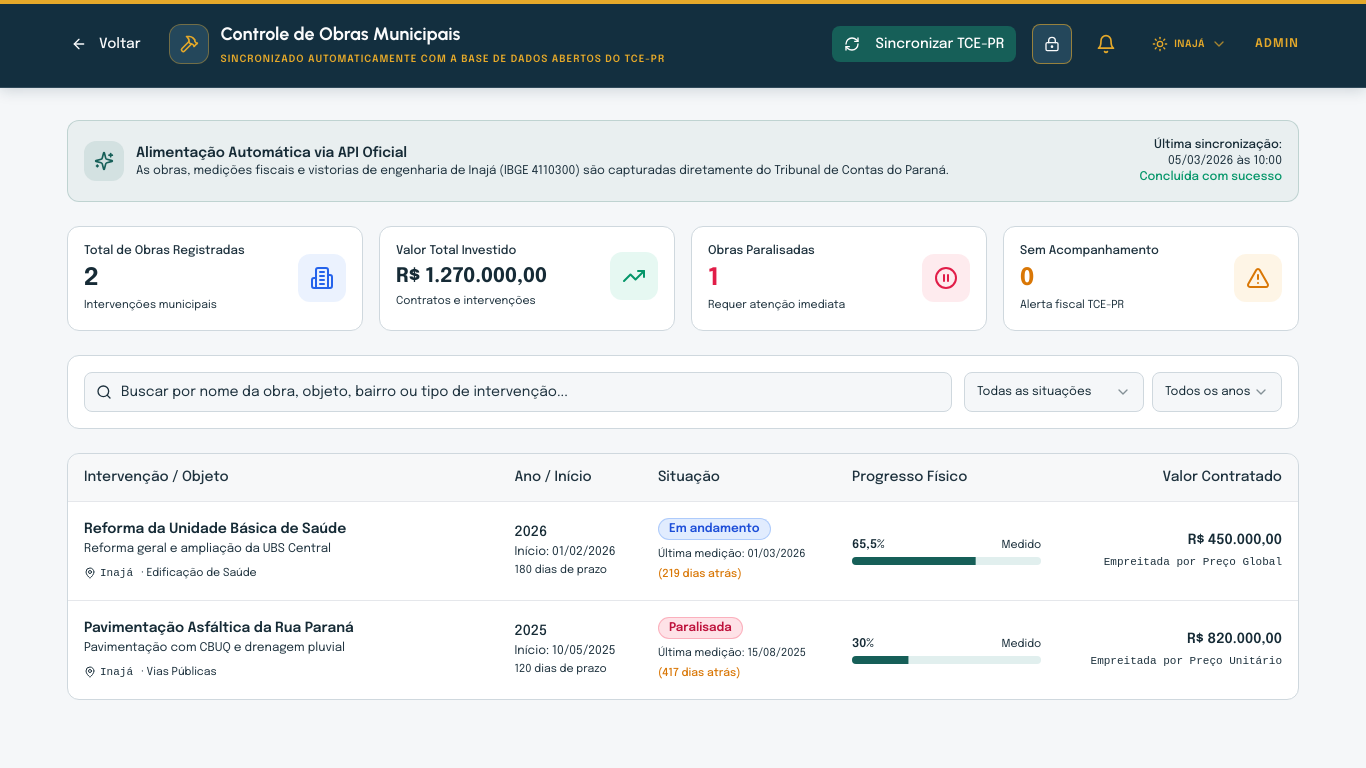
Test case: Página de Controle de Obras › usa os anos das obras carregadas como fallback quando status não traz anos
Expected: the text "Reforma da Unidade Básica de Saúde" is shown, [84,522,346,536]
Click the dropdown named "Filtrar por exercício". click: point(1217, 392)
box: [1152,372,1282,412]
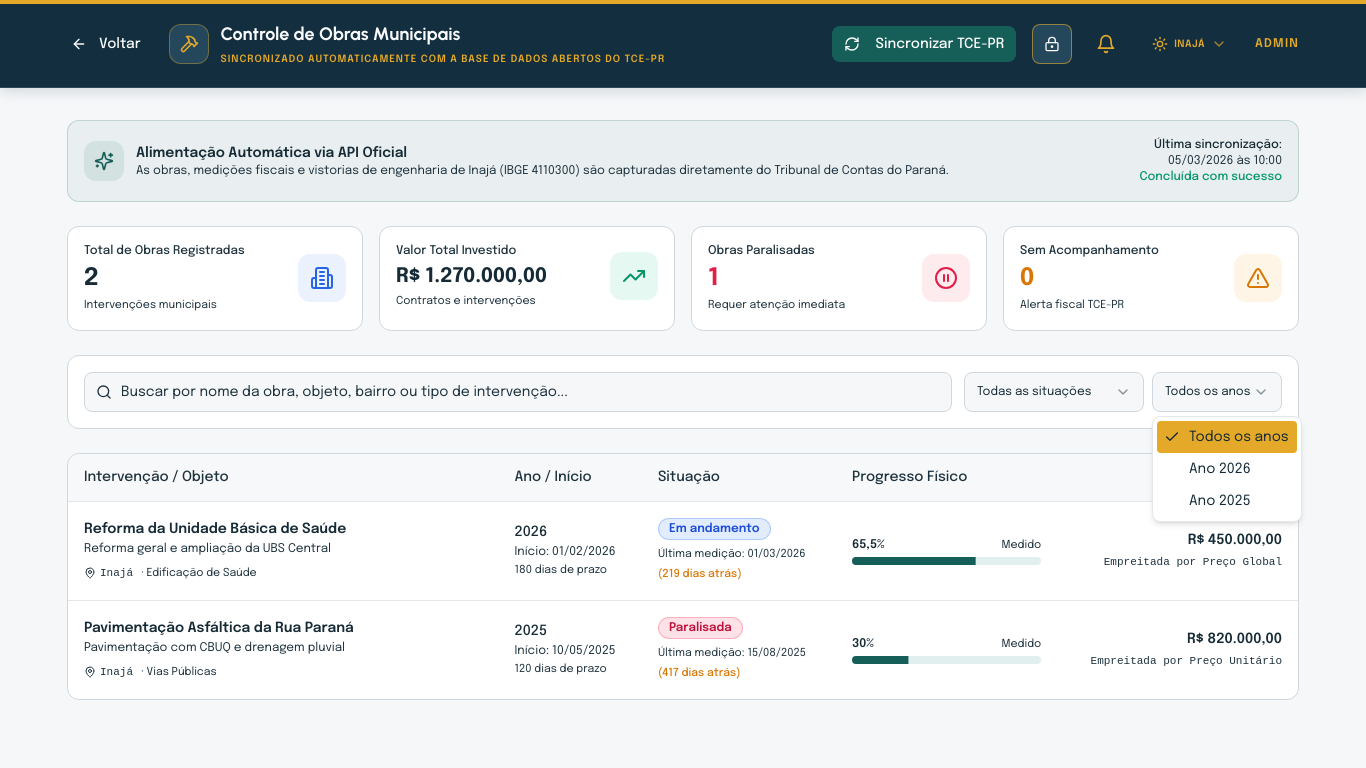
Expected: the option "Ano 2026" is shown, [1189,462,1251,476]
Expected: the option "Ano 2025" is shown, [1189,494,1251,508]
